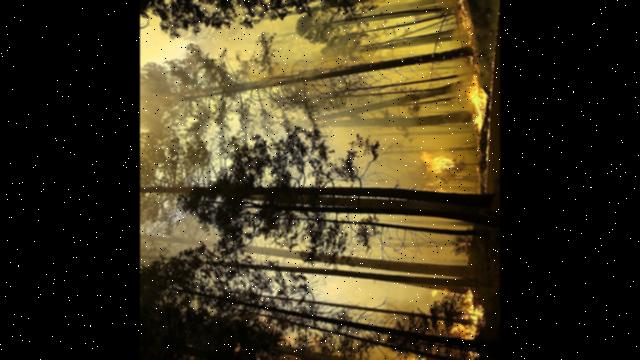fire: (210, 288, 485, 360), (410, 0, 500, 180)
